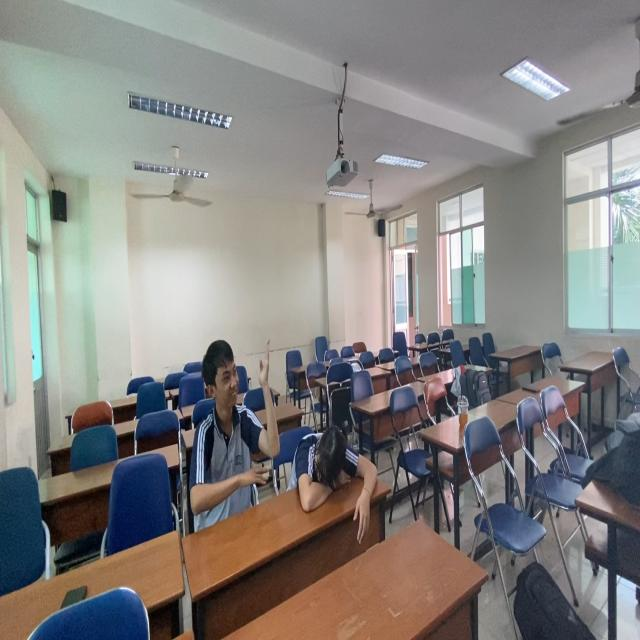raise_hand: (182, 330, 281, 508)
sleep: (287, 419, 382, 549)
